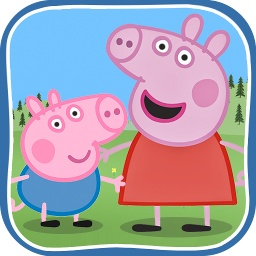Peppa: (105, 14, 240, 235)
